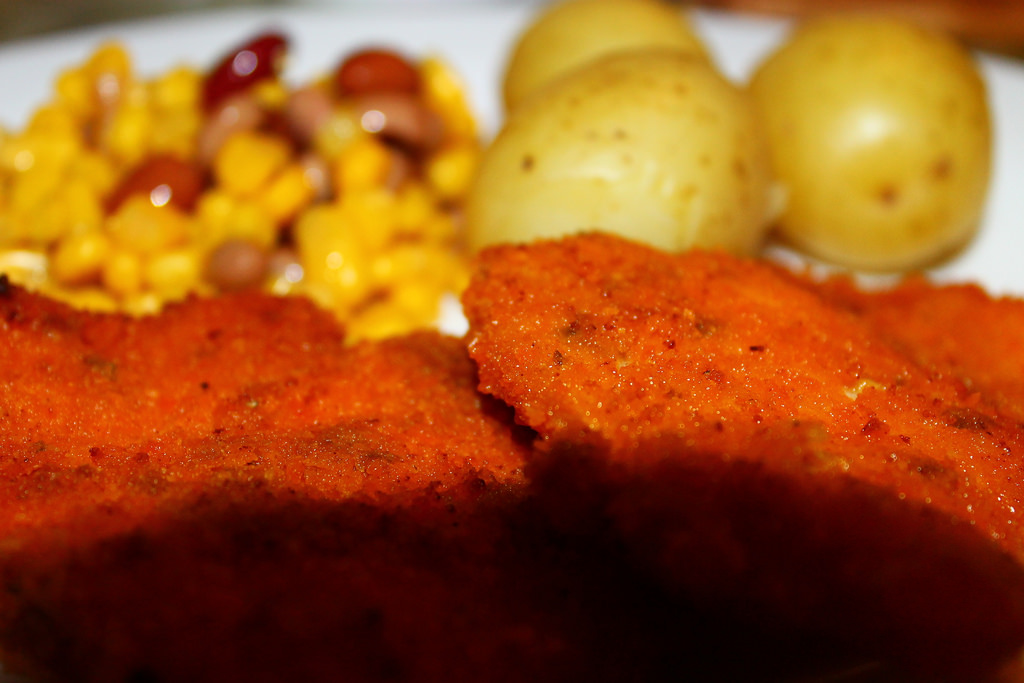boiled potatoes: (463, 24, 1018, 272), (466, 52, 771, 266), (750, 20, 990, 270)
